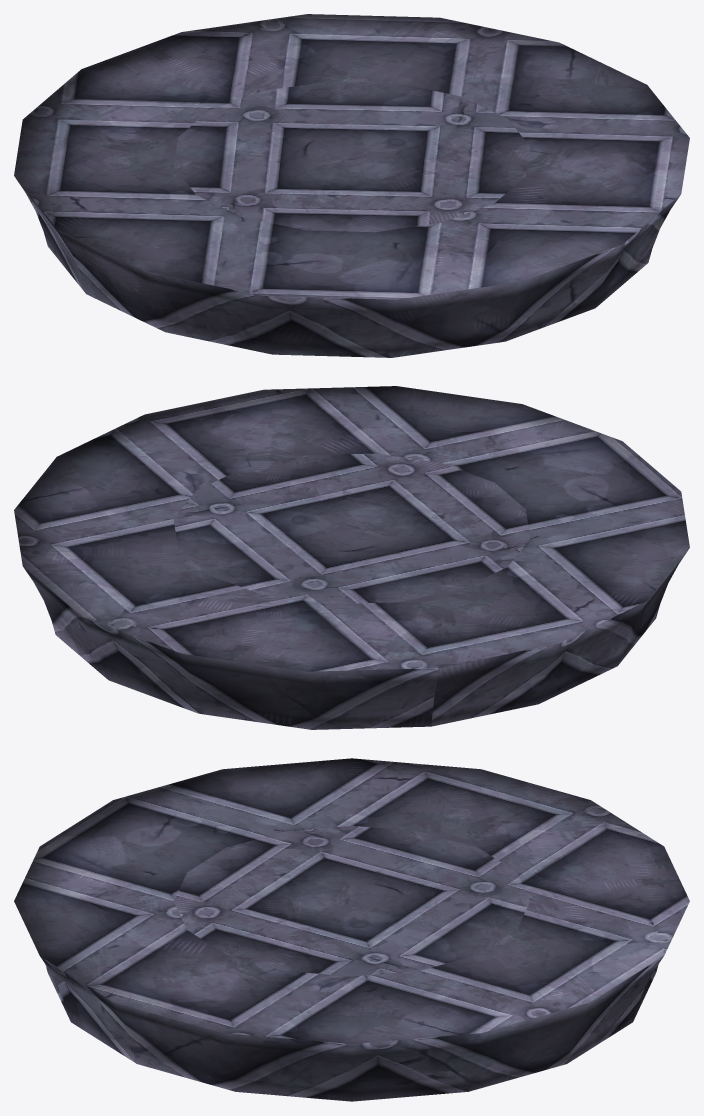
The model's file is Coliseo_006.fbx.
3 renders of one model, top to bottom at view 1: azimuth 30°, elevation 25°; view 2: azimuth 150°, elevation 25°; view 3: azimuth 270°, elevation 25°, orthographic.
Parts seen in each view (by area): view 1: ARENA, ARENA.001; view 2: ARENA, ARENA.001; view 3: ARENA, ARENA.001.
Part boxes in pixels (x1,y1,x2,y2): ARENA: [14, 14, 689, 357]; ARENA.001: [173, 81, 530, 232]; ARENA: [14, 386, 689, 729]; ARENA.001: [173, 453, 530, 604]; ARENA: [14, 758, 689, 1101]; ARENA.001: [173, 826, 530, 976].
Bounding box in the file's own units: 2130 × 250 × 2130.
